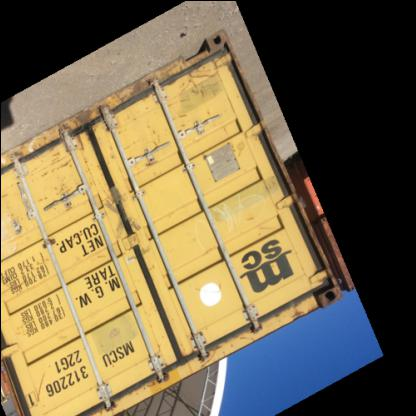Damage: (153, 49, 231, 99), (26, 359, 58, 409), (106, 78, 150, 112), (32, 144, 70, 178), (132, 371, 170, 397), (36, 184, 76, 208), (1, 141, 25, 179), (278, 304, 310, 326), (66, 108, 94, 132), (228, 330, 256, 350), (196, 346, 216, 368), (254, 221, 276, 239), (233, 213, 256, 228), (97, 398, 117, 415), (150, 127, 164, 151), (165, 112, 187, 126), (216, 125, 233, 143), (103, 324, 121, 340), (106, 140, 117, 164), (52, 332, 70, 346), (121, 140, 140, 152), (93, 254, 110, 265), (142, 158, 156, 170), (0, 190, 11, 204), (202, 110, 214, 120)
